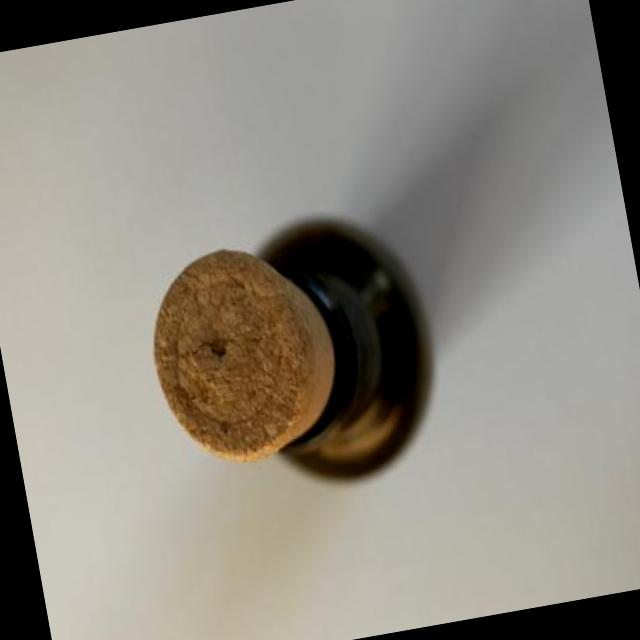carton: (153, 247, 337, 462)
chai_thuy_tinh: (256, 217, 437, 485)
